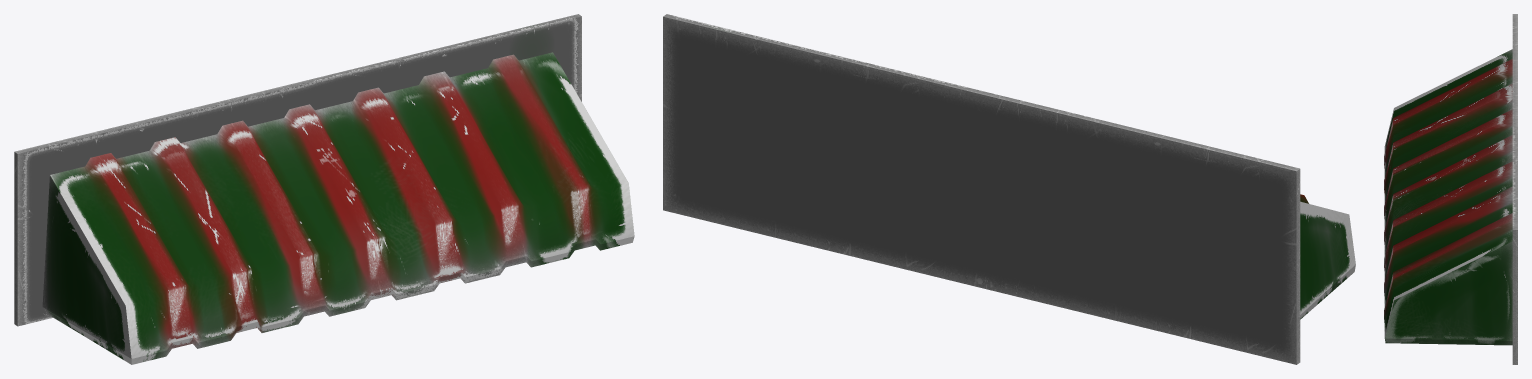
File: Awning_01.fbx
The picture shows the model from 3 angles, left to right: view 1: azimuth 30°, elevation 25°; view 2: azimuth 150°, elevation 25°; view 3: azimuth 270°, elevation 25°; orthographic projection. The views are drawn at different scales.
Visible parts, largest first — view 1: pCube6; view 2: pCube6; view 3: pCube6.
Boxes of the visible parts, box(x1,y1,x2,y2) form: pCube6: box(14, 14, 634, 364); pCube6: box(663, 14, 1355, 364); pCube6: box(1384, 14, 1517, 364).
Size of the model in its own units: 8.32 by 2.43 by 2.18.
